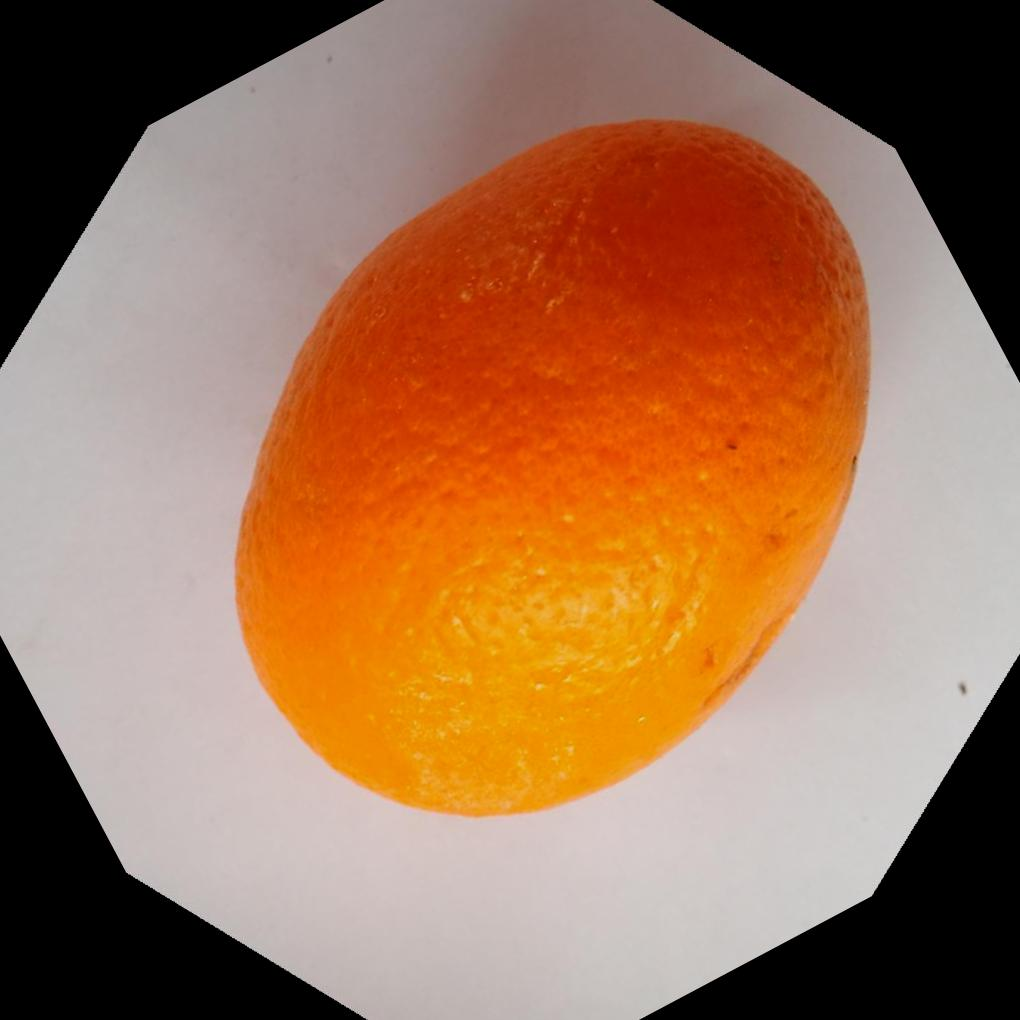FreshGuava: (228, 117, 869, 821)
